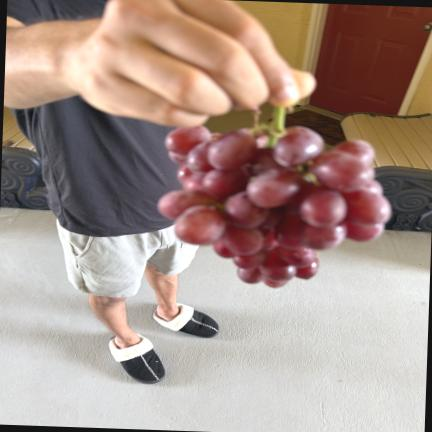grape_cluster: (157, 107, 392, 287)
